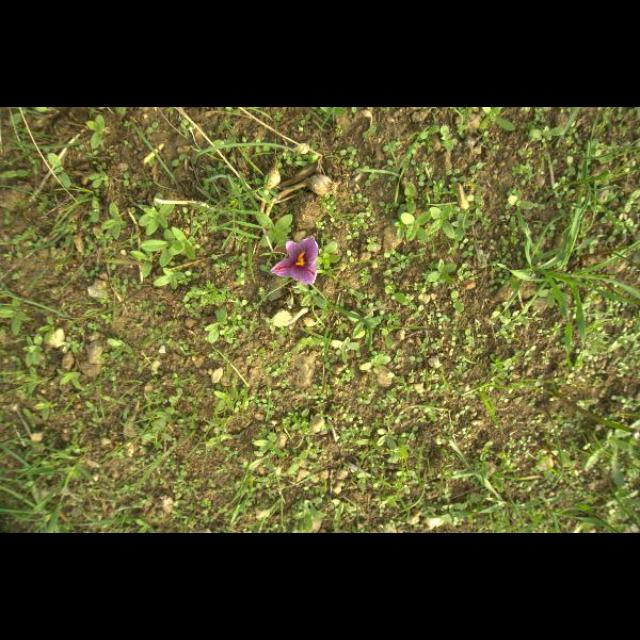flower: (271, 236, 319, 284)
